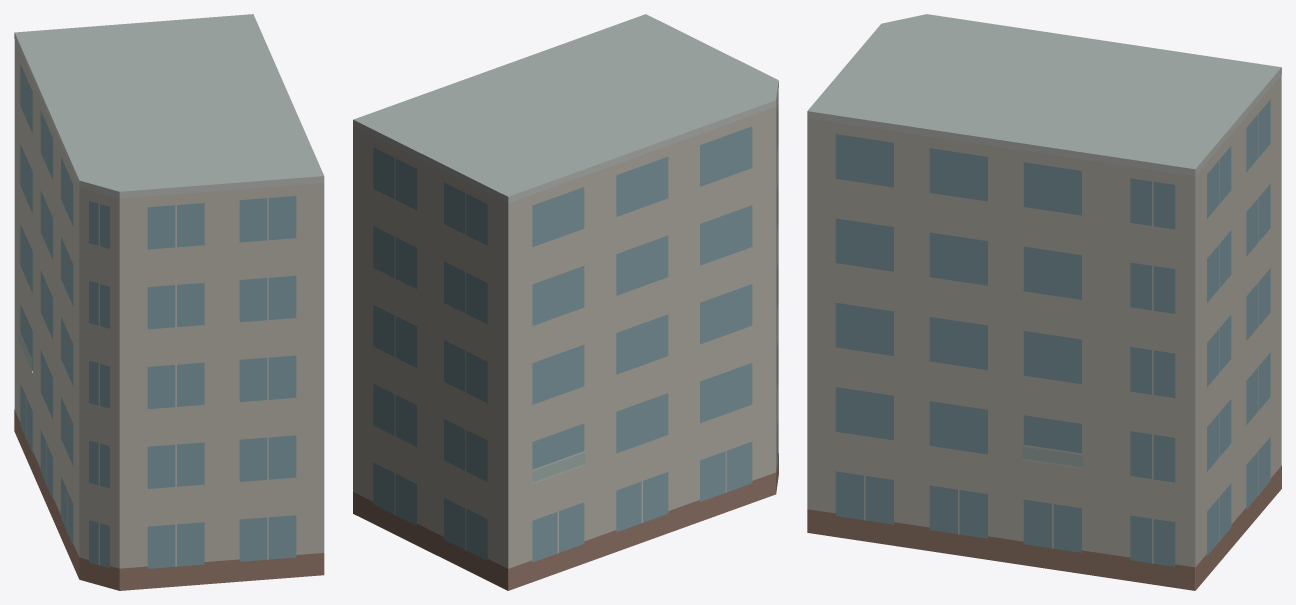
File: survey-upis-32708229.glb
3 views of the same model, side by side, from view 1: azimuth 30°, elevation 25°; view 2: azimuth 150°, elevation 25°; view 3: azimuth 270°, elevation 25° (orthographic). The views are drawn at different scales.
Visible parts, largest first — view 1: survey-upis-32708229.tmp; view 2: survey-upis-32708229.tmp; view 3: survey-upis-32708229.tmp.
Part boxes in pixels (x1,y1,x2,y2): survey-upis-32708229.tmp: (14,14,324,590); survey-upis-32708229.tmp: (353,14,778,590); survey-upis-32708229.tmp: (807,14,1281,590).
Bounding box in the file's own units: 11.46 × 14.5 × 14.8.
